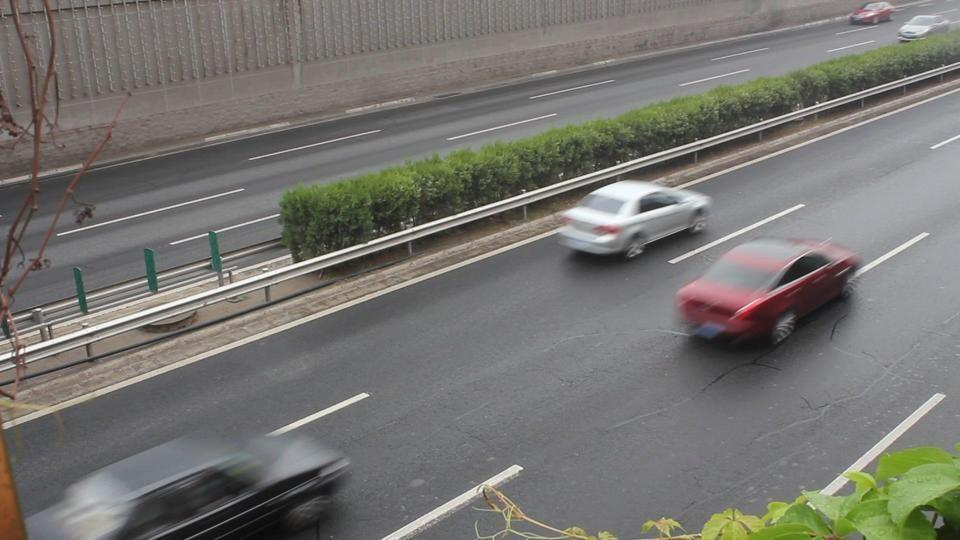car: (35, 427, 356, 538), (673, 236, 863, 350), (555, 179, 712, 260), (897, 13, 952, 42), (847, 1, 895, 26)
